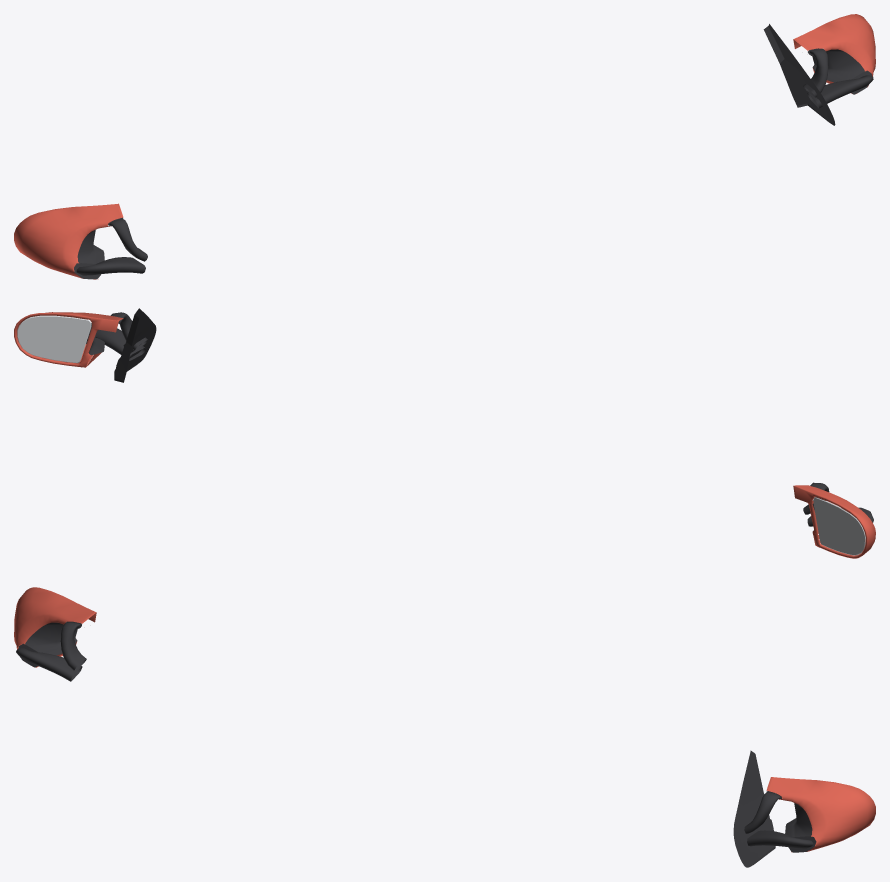
File: wendtStrom_mirrors_shippu.glb
3 renders of one model, top to bottom at view 1: azimuth 30°, elevation 25°; view 2: azimuth 150°, elevation 25°; view 3: azimuth 330°, elevation 25°, orthographic.
Parts seen in each view (by area): view 1: mirrors_shippu; view 2: mirrors_shippu; view 3: mirrors_shippu.
Boxes of the visible parts, box(x1,y1,x2,y2) form: mirrors_shippu: box(14, 14, 875, 279); mirrors_shippu: box(14, 308, 875, 558); mirrors_shippu: box(14, 587, 875, 867).
Bounding box in the file's own units: 1.99 × 0.1915 × 0.2085.
